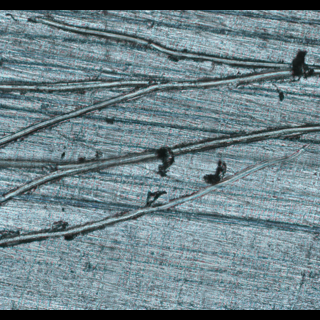d: (0, 12, 320, 260)
